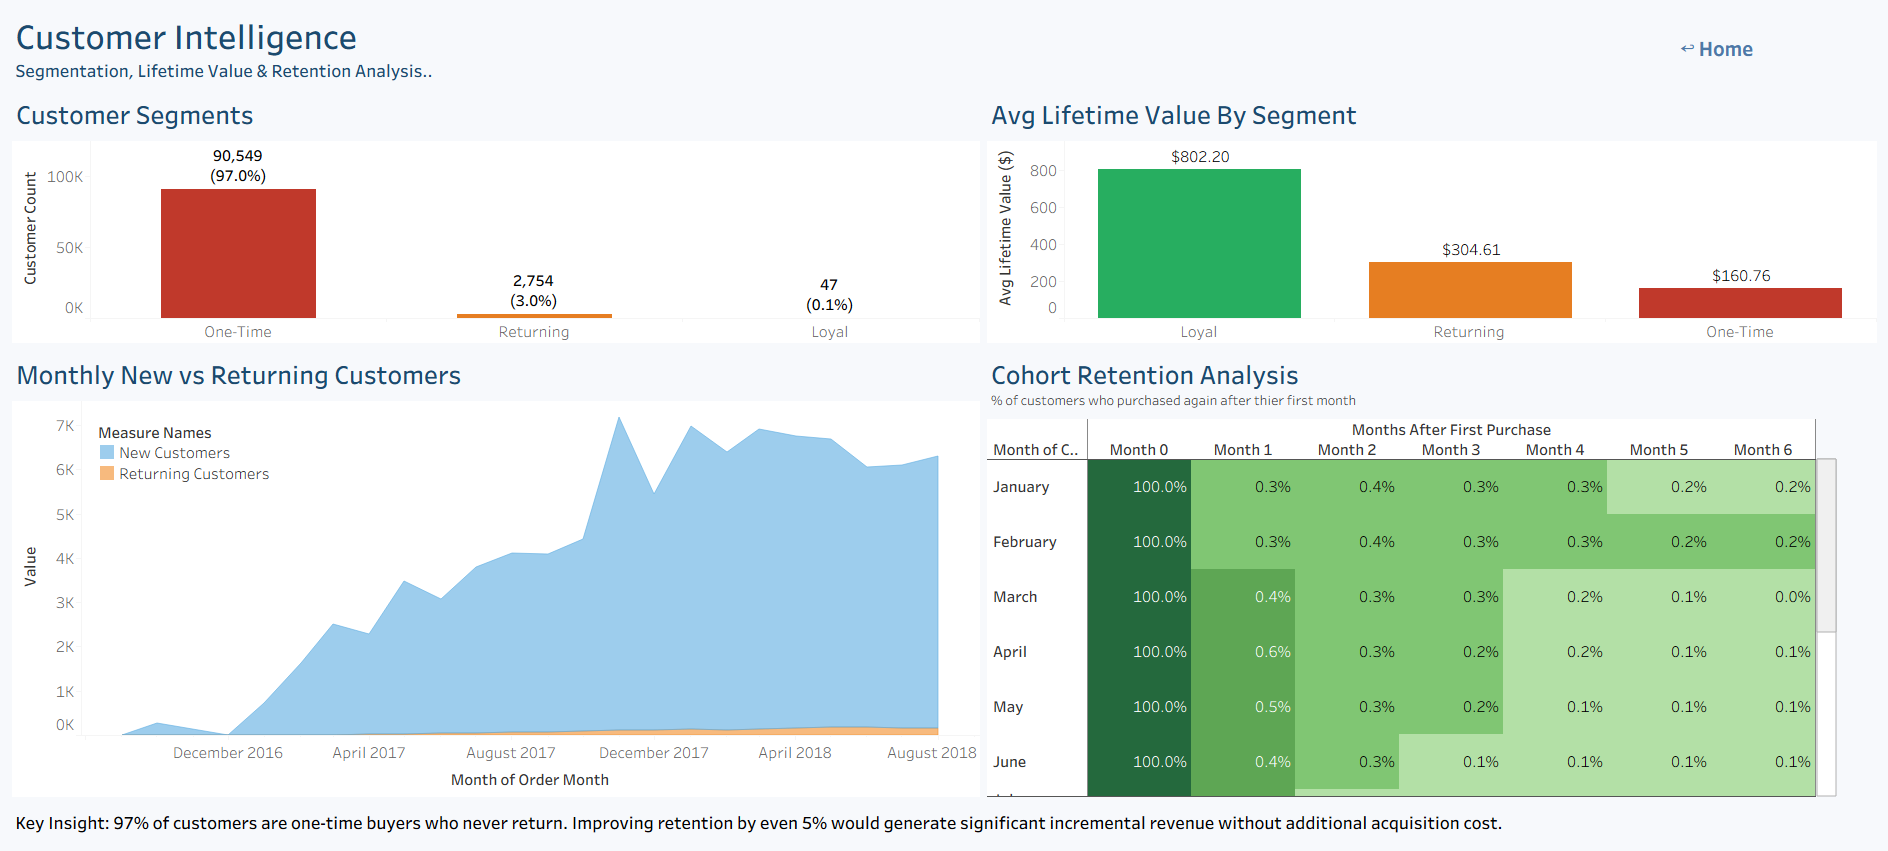

What the dashboard file says about the page in this screenshot:
{"tool":"tableau","page":{"name":"Customer Intelligence","canvas":[1000,1000],"units":"permille","ordinal":0},"visuals":[{"type":"text","box":[4.2,7.7,818.9,92.8]},{"type":"dashboard-object","box":[823.1,7.7,172.7,92.8]},{"type":"worksheet","title":"Segment Count","mark":"Automatic","rows":["CUSTOMER_COUNT"],"cols":["CUSTOMER_SEGMENT"],"box":[4.2,100.5,516.4,306.8]},{"type":"worksheet","title":"Segment LTV","mark":"Automatic","rows":["AVG_LIFETIME_VALUE"],"cols":["CUSTOMER_SEGMENT"],"box":[520.5,100.5,475.3,306.8]},{"type":"worksheet","title":"New vs Returning","mark":"Area","cols":["ORDER_MONTH"],"box":[4.2,407.2,516.4,535.4]},{"type":"worksheet","title":"Cohort Retention","mark":"Square","rows":["COHORT_MONTH"],"cols":["Months After First Purchase"],"box":[520.5,407.2,475.3,535.4]},{"type":"legend","title":"New vs Returning","param":"[federated.18egzkw1fdzq5918wi1540cy7eyh].[:Measure Names]","box":[51.4,493.5,94.3,75.2]},{"type":"text","box":[4.2,942.6,991.7,49.7]}]}

Visuals, with their boxes on the dashboard's canvas, which has no fixed pixel size, in thousandths of its width and height (x1, y1, x2, y2). These are canvas units, not pixel positions in the 1888x851 screenshot, which may show the page scaled, cropped or inside an application window:
text: <bbox>4, 8, 823, 100</bbox>
dashboard-object: <bbox>823, 8, 996, 100</bbox>
"Segment Count" worksheet: <bbox>4, 100, 521, 407</bbox>
"Segment LTV" worksheet: <bbox>520, 100, 996, 407</bbox>
"New vs Returning" worksheet (Area marks): <bbox>4, 407, 521, 943</bbox>
"Cohort Retention" worksheet (Square marks): <bbox>520, 407, 996, 943</bbox>
"New vs Returning" legend: <bbox>51, 494, 146, 569</bbox>
text: <bbox>4, 943, 996, 992</bbox>
